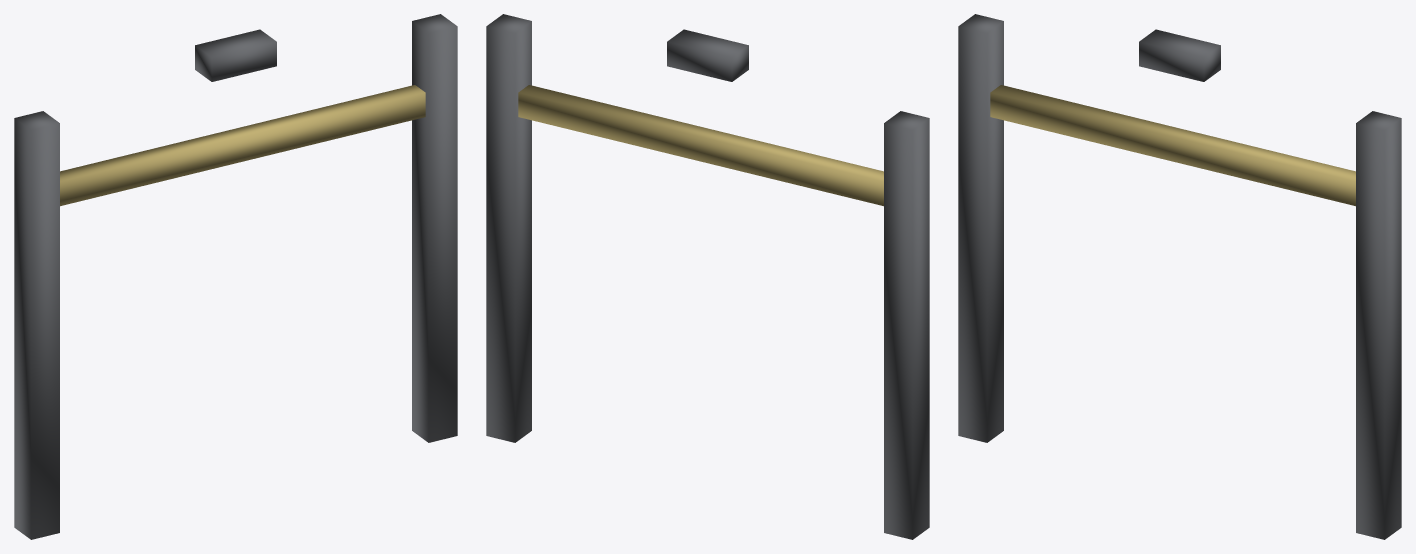
Rendered from queue_gate_06.glb.
3 views of the same model, side by side, from view 1: azimuth 30°, elevation 25°; view 2: azimuth 150°, elevation 25°; view 3: azimuth 330°, elevation 25° (orthographic).
Parts seen in each view (by area): view 1: world; view 2: world; view 3: world.
Part boxes in pixels (x1,y1,x2,y2): world: (14,14,457,539); world: (486,14,929,539); world: (958,14,1401,539).
Bounding box in the file's own units: 1.13 × 1.11 × 0.0776.
